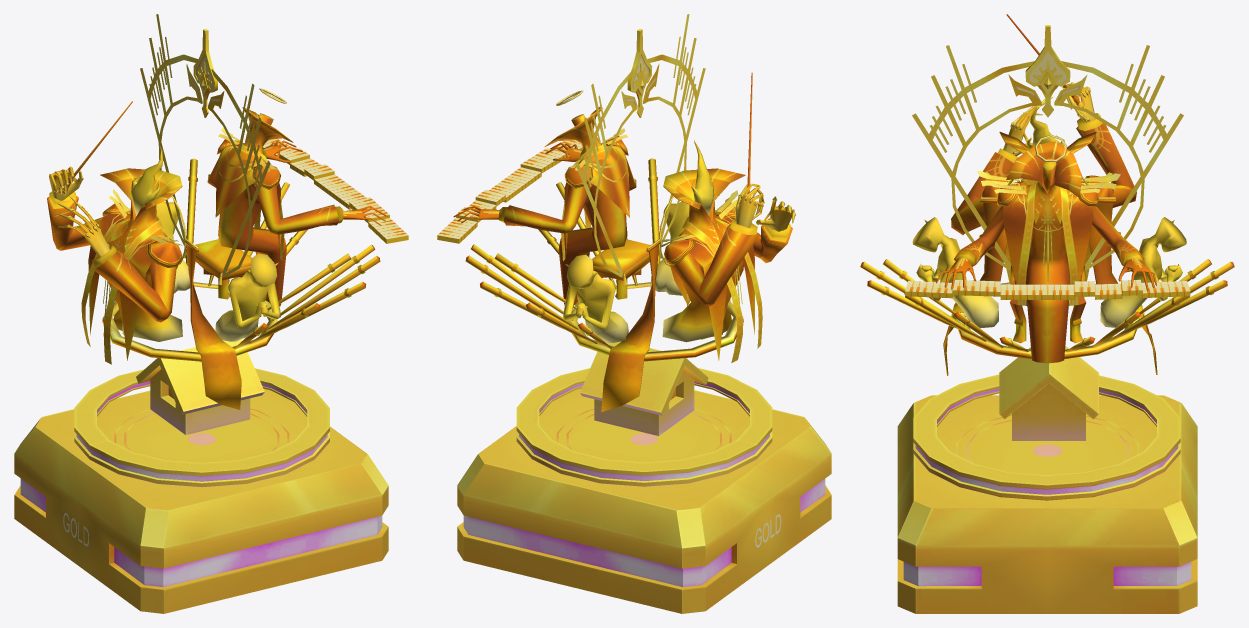
File: my_trophy_EN0005_indoor_gold.glb
3 views of the same model, side by side, from view 1: azimuth 30°, elevation 25°; view 2: azimuth 150°, elevation 25°; view 3: azimuth 270°, elevation 25° (orthographic). The views are drawn at different scales.
Parts seen in each view (by area): view 1: my_trophy_EN0005_indoor_gold; view 2: my_trophy_EN0005_indoor_gold; view 3: my_trophy_EN0005_indoor_gold.
Boxes of the visible parts, x1,y1,x2,y2 form: my_trophy_EN0005_indoor_gold: (14,14,408,613); my_trophy_EN0005_indoor_gold: (437,14,831,613); my_trophy_EN0005_indoor_gold: (860,14,1234,613).
Bounding box in the file's own units: 0.00459 × 0.00756 × 0.00487.
3 materials, 3 textured.
